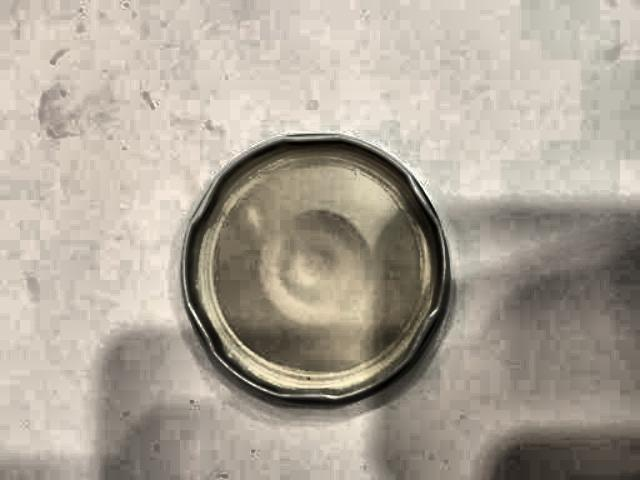Almennt: (164, 120, 487, 418)
